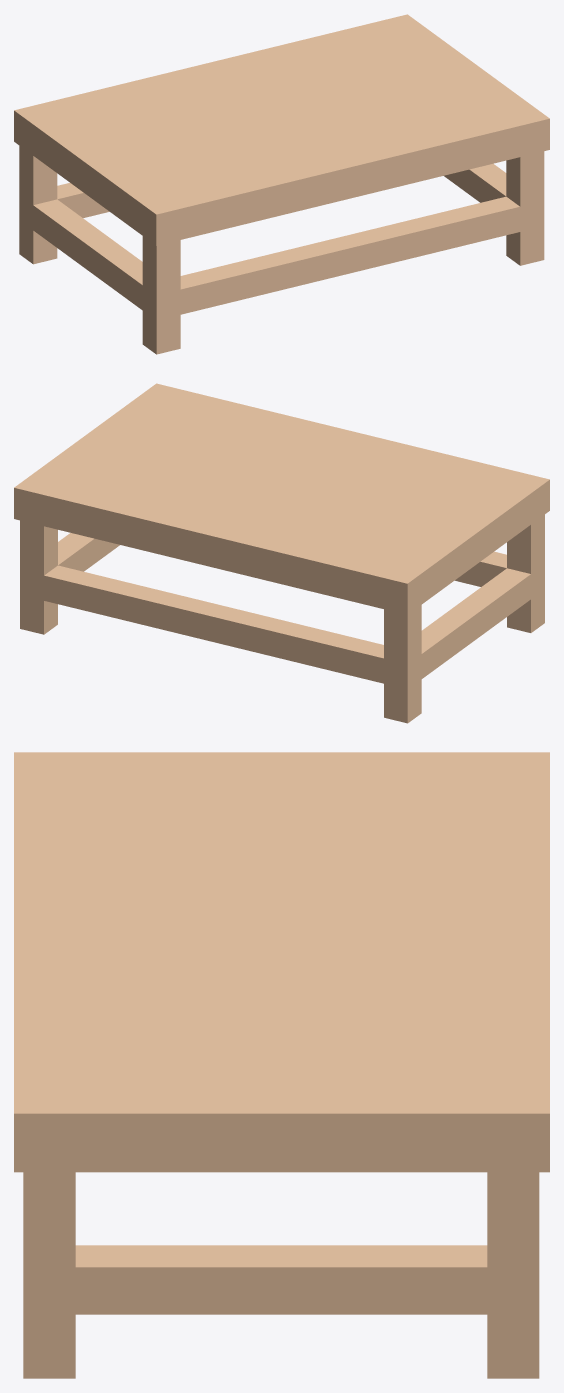
The model's file is CoffeeTable.fbx.
3 views of the same model, one above another, from view 1: azimuth 30°, elevation 25°; view 2: azimuth 150°, elevation 25°; view 3: azimuth 270°, elevation 25° (orthographic). The views are drawn at different scales.
Parts seen in each view (by area): view 1: Cube.001; view 2: Cube.001; view 3: Cube.001.
Boxes of the visible parts, <box> form: Cube.001: <box>14,14,549,354</box>; Cube.001: <box>14,383,549,723</box>; Cube.001: <box>14,752,549,1378</box>.
Size of the model in its own units: 208 by 332 by 115.
